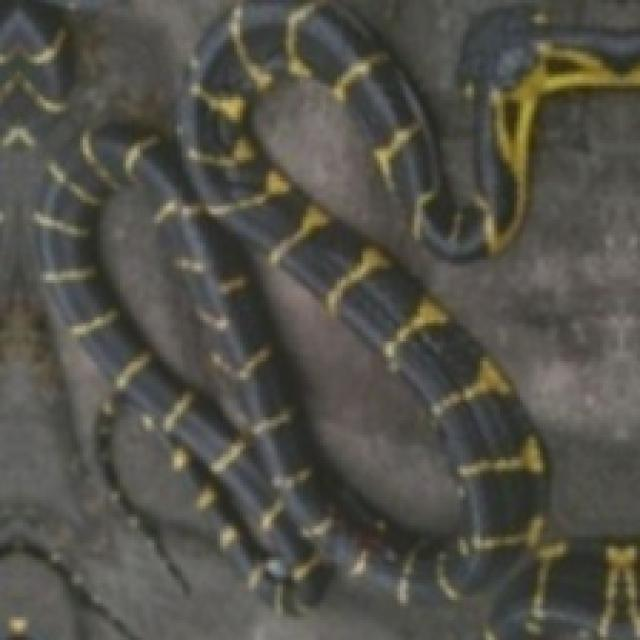mangrove cat snake: (34, 0, 637, 637)
